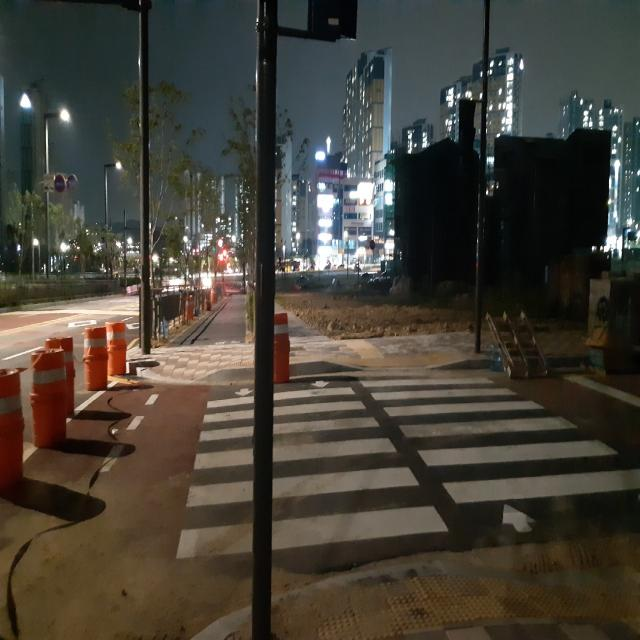횡단보도: (176, 378, 640, 560)
